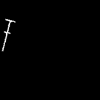double_crochet: (2, 19, 14, 50)
